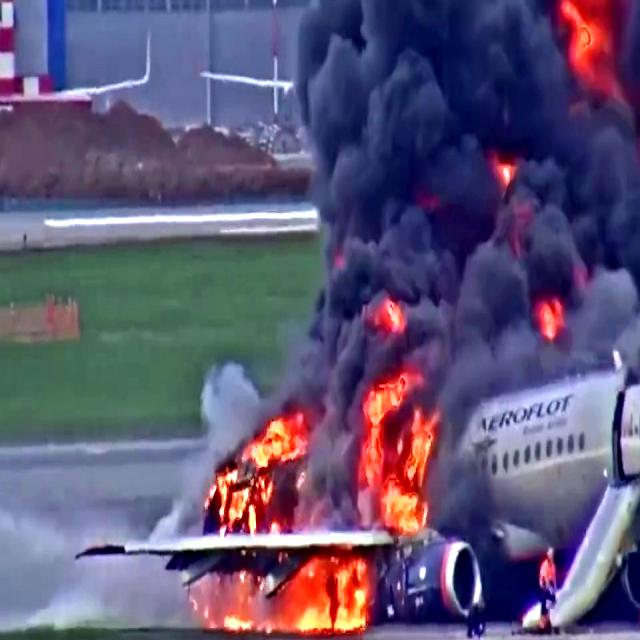fire: (350, 371, 430, 531), (302, 572, 370, 638)
smoke: (316, 0, 530, 308), (530, 74, 640, 374)
